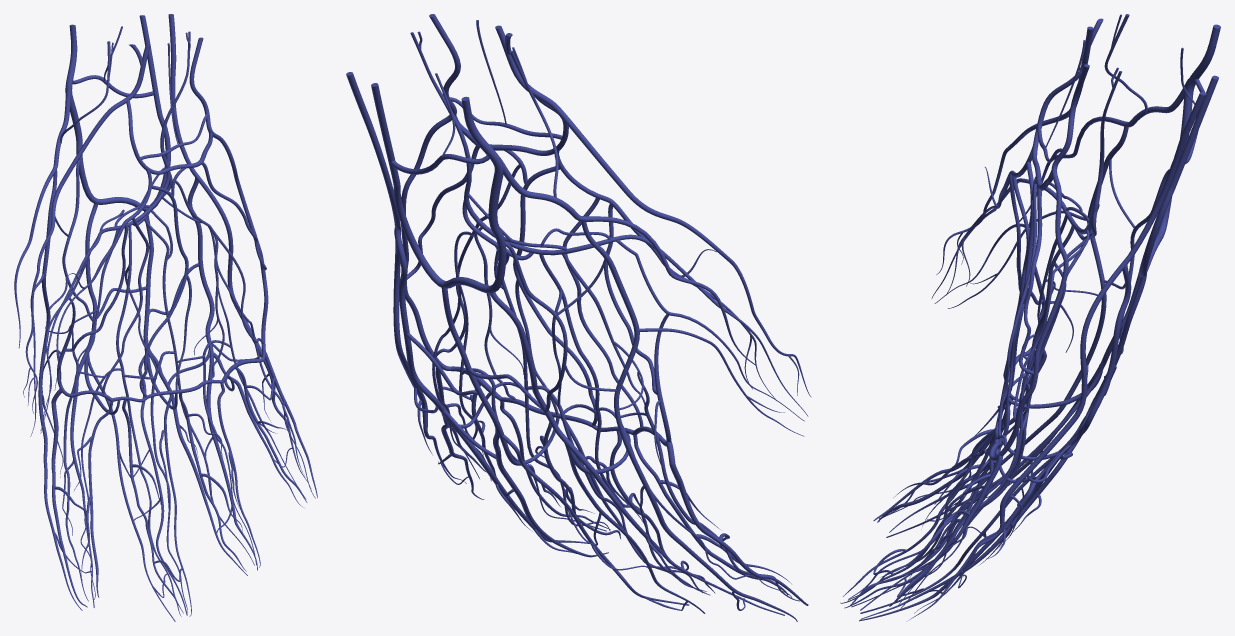
File: open3d-hand-venous-01.glb
3 renders of one model, left to right at view 1: azimuth 30°, elevation 25°; view 2: azimuth 150°, elevation 25°; view 3: azimuth 270°, elevation 25°, orthographic. The views are drawn at different scales.
Parts seen in each view (by area): view 1: O3D_4ec91bc2a67918, O3D_323b99c2f6ad98, O3D_3ec5830a2572f2, O3D_688aef4b0405d6, O3D_a4d13acff2b726, O3D_f1c12adf13c5ff, O3D_589f646350afec, O3D_e26d09f1802ee4, O3D_2f1fc53a4ccf2d, O3D_75efe5ad7ad890; view 2: O3D_4ec91bc2a67918, O3D_323b99c2f6ad98, O3D_688aef4b0405d6, O3D_a4d13acff2b726, O3D_3ec5830a2572f2, O3D_f1c12adf13c5ff, O3D_589f646350afec, O3D_2f1fc53a4ccf2d, O3D_e26d09f1802ee4, O3D_75efe5ad7ad890, O3D_a52982903d2efa; view 3: O3D_4ec91bc2a67918, O3D_323b99c2f6ad98, O3D_3ec5830a2572f2, O3D_688aef4b0405d6, O3D_a4d13acff2b726, O3D_f1c12adf13c5ff, O3D_589f646350afec, O3D_e26d09f1802ee4, O3D_2f1fc53a4ccf2d, O3D_75efe5ad7ad890, O3D_a8e00f26c2c924.
Part boxes in pixels (x1=…): O3D_4ec91bc2a67918: x1=37, y1=43, x2=268, y2=402; O3D_323b99c2f6ad98: x1=14, y1=273, x2=311, y2=621; O3D_3ec5830a2572f2: x1=23, y1=270, x2=317, y2=616; O3D_688aef4b0405d6: x1=40, y1=196, x2=315, y2=613; O3D_a4d13acff2b726: x1=15, y1=160, x2=235, y2=358; O3D_f1c12adf13c5ff: x1=54, y1=42, x2=193, y2=211; O3D_589f646350afec: x1=40, y1=167, x2=172, y2=430; O3D_e26d09f1802ee4: x1=126, y1=100, x2=212, y2=174; O3D_2f1fc53a4ccf2d: x1=84, y1=338, x2=234, y2=414; O3D_75efe5ad7ad890: x1=160, y1=31, x2=190, y2=167; O3D_4ec91bc2a67918: x1=401, y1=20, x2=732, y2=470; O3D_323b99c2f6ad98: x1=398, y1=299, x2=804, y2=621; O3D_688aef4b0405d6: x1=432, y1=227, x2=804, y2=601; O3D_a4d13acff2b726: x1=393, y1=215, x2=719, y2=450; O3D_3ec5830a2572f2: x1=435, y1=249, x2=811, y2=605; O3D_f1c12adf13c5ff: x1=364, y1=116, x2=579, y2=293; O3D_589f646350afec: x1=462, y1=193, x2=808, y2=416; O3D_2f1fc53a4ccf2d: x1=450, y1=393, x2=630, y2=474; O3D_e26d09f1802ee4: x1=455, y1=96, x2=568, y2=155; O3D_75efe5ad7ad890: x1=410, y1=31, x2=471, y2=195; O3D_a52982903d2efa: x1=509, y1=47, x2=558, y2=197; O3D_4ec91bc2a67918: x1=989, y1=40, x2=1089, y2=460; O3D_323b99c2f6ad98: x1=859, y1=166, x2=1104, y2=621; O3D_3ec5830a2572f2: x1=840, y1=149, x2=1046, y2=608; O3D_688aef4b0405d6: x1=848, y1=186, x2=1097, y2=611; O3D_a4d13acff2b726: x1=1046, y1=116, x2=1169, y2=444; O3D_f1c12adf13c5ff: x1=1128, y1=44, x2=1216, y2=277; O3D_589f646350afec: x1=931, y1=178, x2=1099, y2=298; O3D_e26d09f1802ee4: x1=1032, y1=71, x2=1080, y2=190; O3D_2f1fc53a4ccf2d: x1=995, y1=365, x2=1102, y2=483; O3D_75efe5ad7ad890: x1=1094, y1=67, x2=1121, y2=204; O3D_a8e00f26c2c924: x1=1091, y1=18, x2=1218, y2=127.
Bounding box in the file's own units: 0.1061 × 0.1855 × 0.1028.
